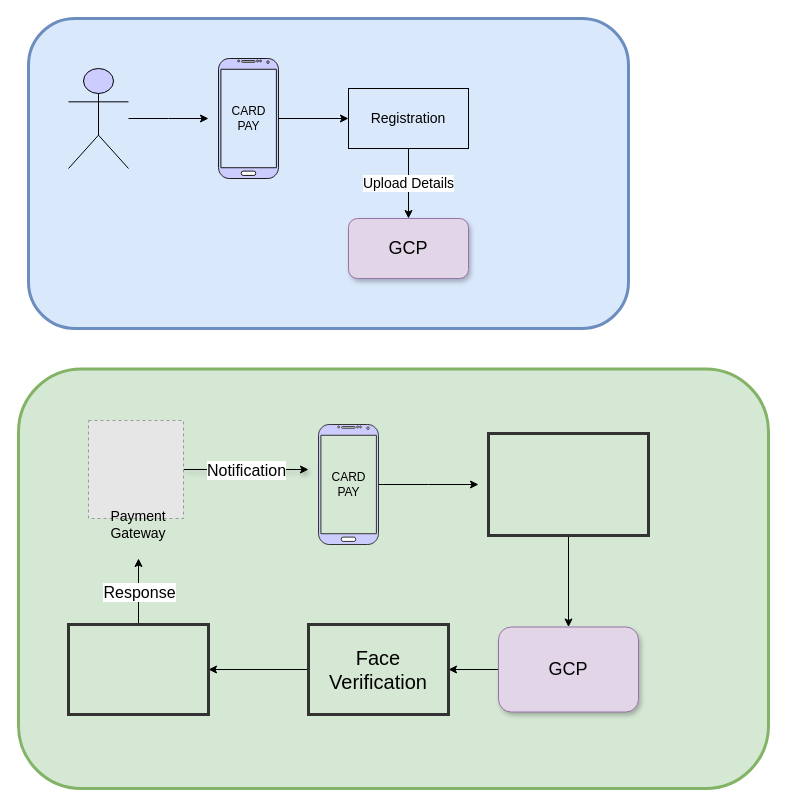
Image size: 787x807. Some labels were removed from this diagram. Grey dashed boxes stand in for pictures. Each missing label, with the centre of its shape:
"Actor" belongs at point 98,118.
"Face Capturing" belongs at point 568,484.
"Payment Processing" belongs at point 138,669.
